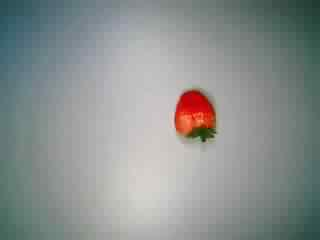strawberry: (156, 80, 222, 146)
